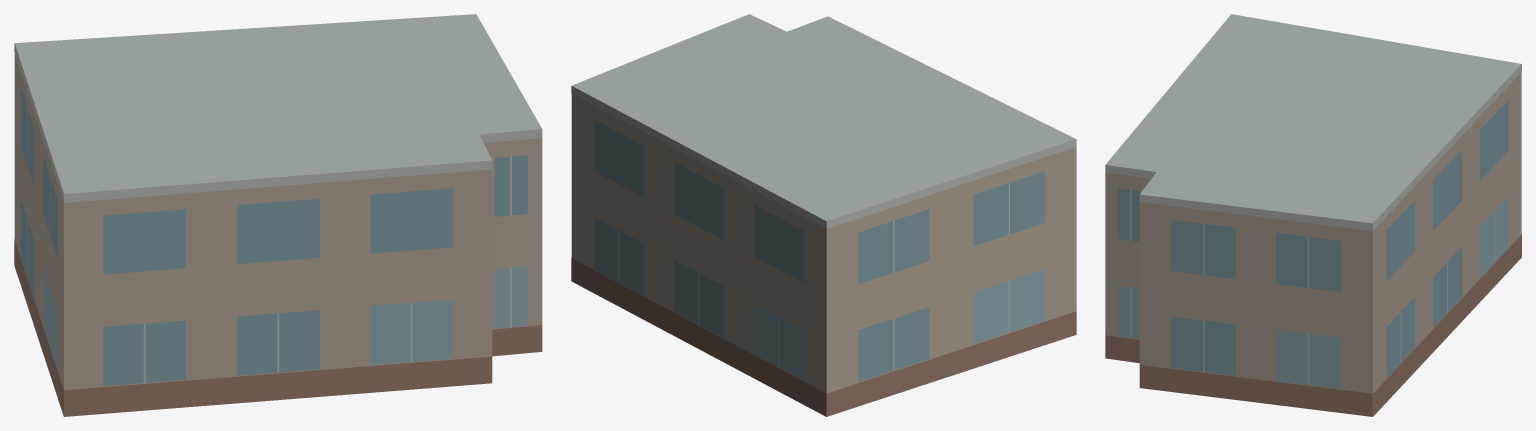
The model's file is survey-upis-32993827.glb.
3 views of the same model, side by side, from view 1: azimuth 30°, elevation 25°; view 2: azimuth 150°, elevation 25°; view 3: azimuth 270°, elevation 25° (orthographic). The views are drawn at different scales.
Parts seen in each view (by area): view 1: survey-upis-32993827.tmp; view 2: survey-upis-32993827.tmp; view 3: survey-upis-32993827.tmp.
Boxes of the visible parts, x1=… form: survey-upis-32993827.tmp: x1=14, y1=14, x2=542, y2=416; survey-upis-32993827.tmp: x1=571, y1=14, x2=1076, y2=416; survey-upis-32993827.tmp: x1=1105, y1=14, x2=1521, y2=416.
Bounding box in the file's own units: 14.16 × 6.1 × 11.9.
